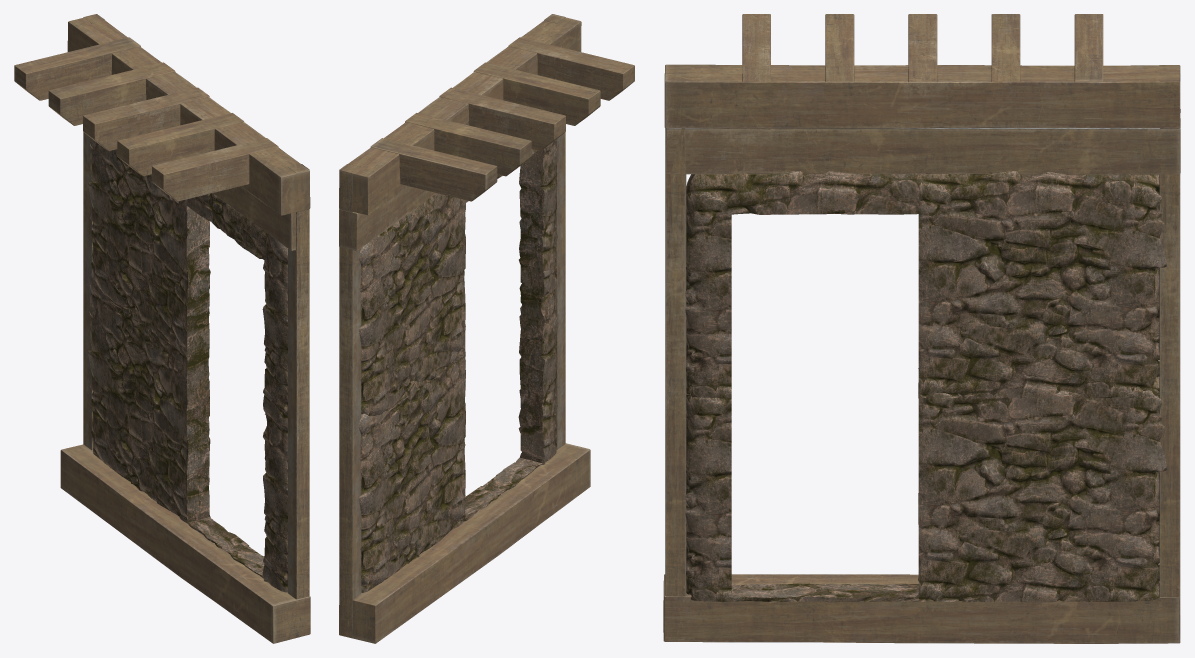
File: SM_Wall-Stone-C.fbx
3 views of the same model, side by side, from view 1: azimuth 30°, elevation 25°; view 2: azimuth 150°, elevation 25°; view 3: azimuth 270°, elevation 25° (orthographic). The views are drawn at different scales.
Parts seen in each view (by area): view 1: SM_Wall-Stone-C_LOD0; view 2: SM_Wall-Stone-C_LOD0; view 3: SM_Wall-Stone-C_LOD0.
Part boxes in pixels (x1,y1,x2,y2): SM_Wall-Stone-C_LOD0: (14, 14, 310, 643); SM_Wall-Stone-C_LOD0: (339, 14, 634, 643); SM_Wall-Stone-C_LOD0: (663, 14, 1180, 643).
Size of the model in its own units: 82.78 by 251 by 301.
Materials: 3 (2 with a texture image).
